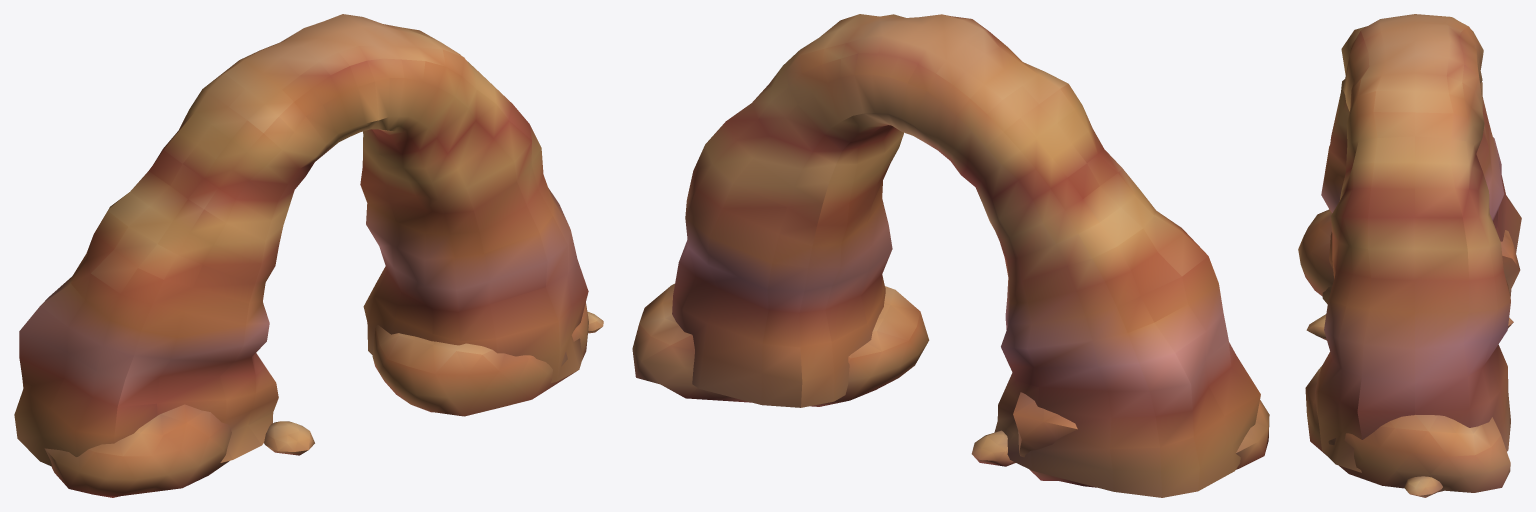
The model's file is amber_arch_sandstone_a.glb.
3 views of the same model, side by side, from view 1: azimuth 30°, elevation 25°; view 2: azimuth 150°, elevation 25°; view 3: azimuth 270°, elevation 25° (orthographic). The views are drawn at different scales.
Visible parts, largest first — view 1: amber_arch_sandstone_a; view 2: amber_arch_sandstone_a; view 3: amber_arch_sandstone_a.
Boxes of the visible parts, x1=… form: amber_arch_sandstone_a: x1=14, y1=14, x2=603, y2=497; amber_arch_sandstone_a: x1=632, y1=14, x2=1269, y2=497; amber_arch_sandstone_a: x1=1298, y1=14, x2=1521, y2=497.
Size of the model in its own units: 17.5 by 10.94 by 6.22.
